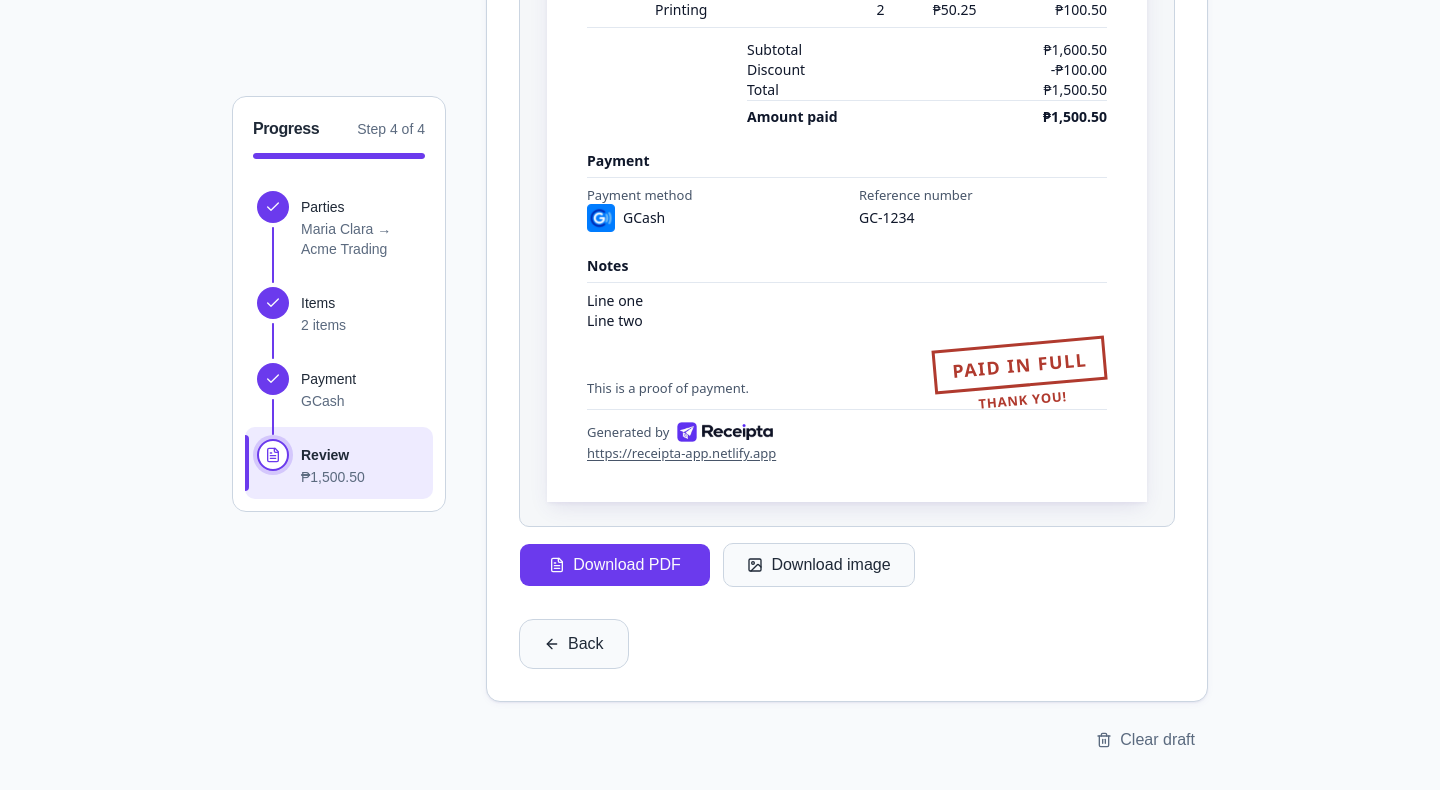
Review step › hands the form values to the export, not a copy of its own (criterion 51)
(page scrolled)
Click the button "Download PDF": coordinates (615, 565) [519, 543, 711, 587]
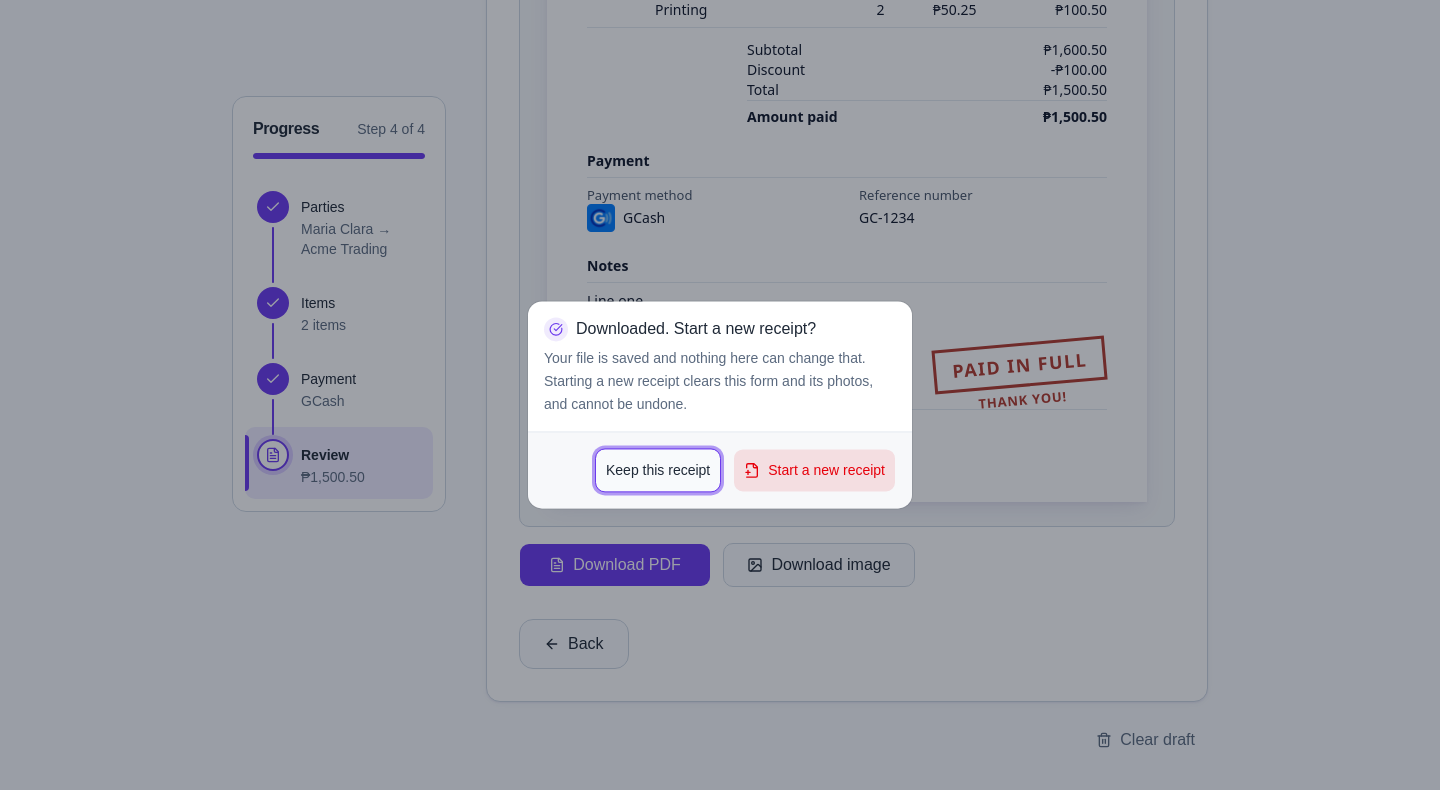
Click the button "Keep this receipt": coordinates (658, 471) [595, 449, 721, 493]
(page scrolled)
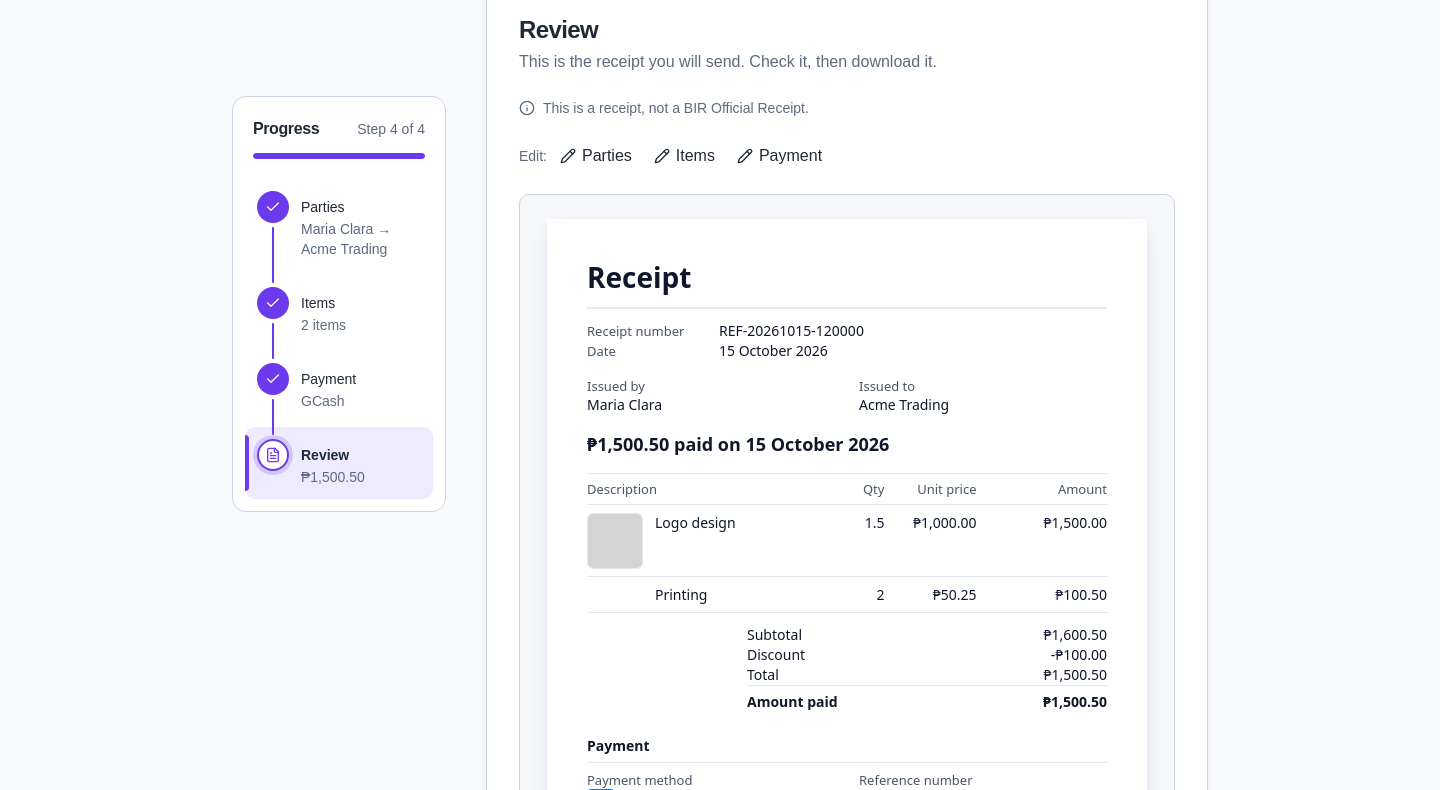
Expected: the element named "Receipt preview" shows "₱1,500.50", [1043, 665, 1107, 684]
Now the dialog is gone
